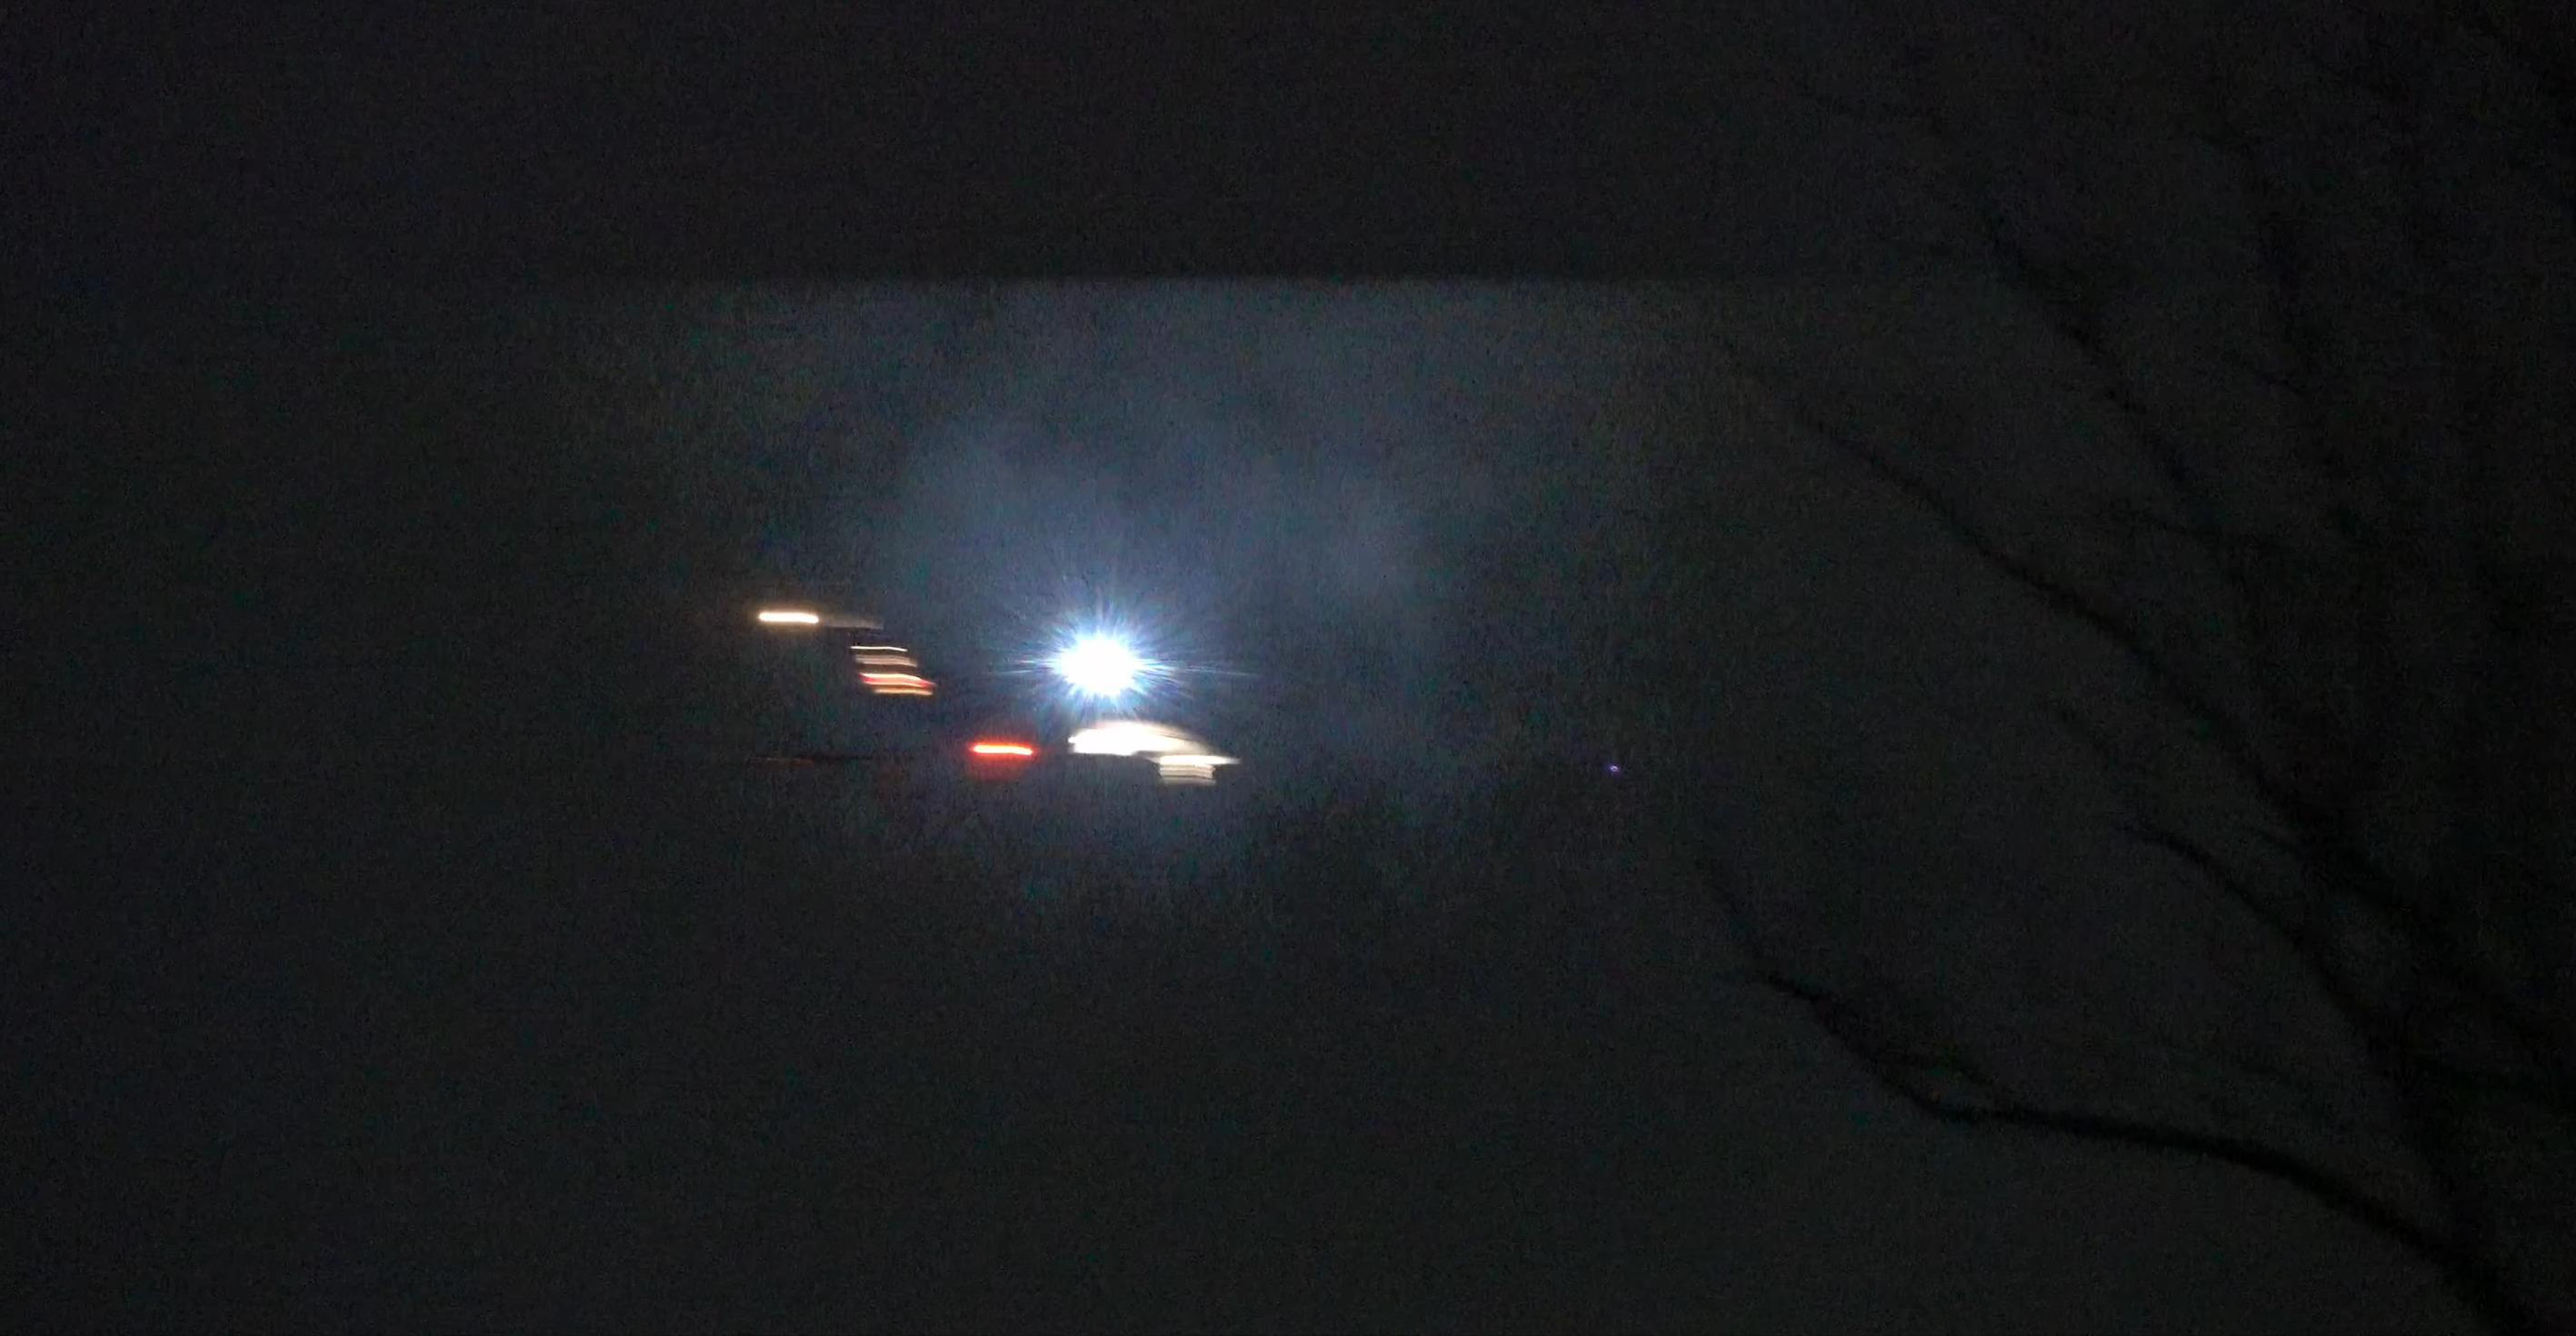Plane: (714, 571, 1288, 833)
